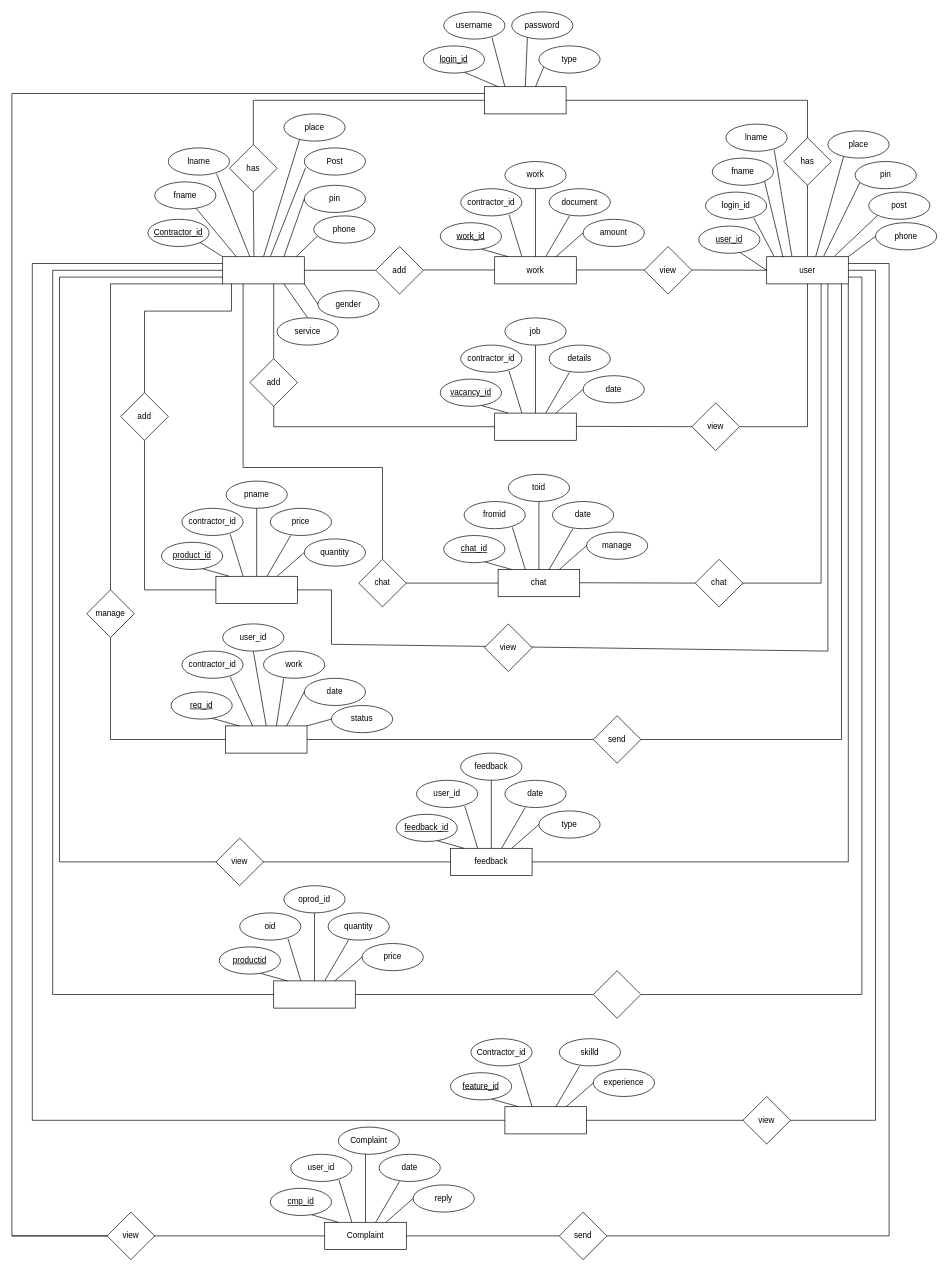
Some shapes in this 949 by 1272 pixel diagram are drawn without their labels. The centre of each missing label's shape, as x and y in pixels:
"buy" belongs at point (617, 994).
"Contractor" belongs at point (263, 270).
"Features" belongs at point (545, 1120).
"login" belongs at point (525, 100).
"orderedproduct" belongs at point (314, 994).
"product" belongs at point (256, 590).
"request" belongs at point (266, 739).
"vacancy" belongs at point (535, 426).
